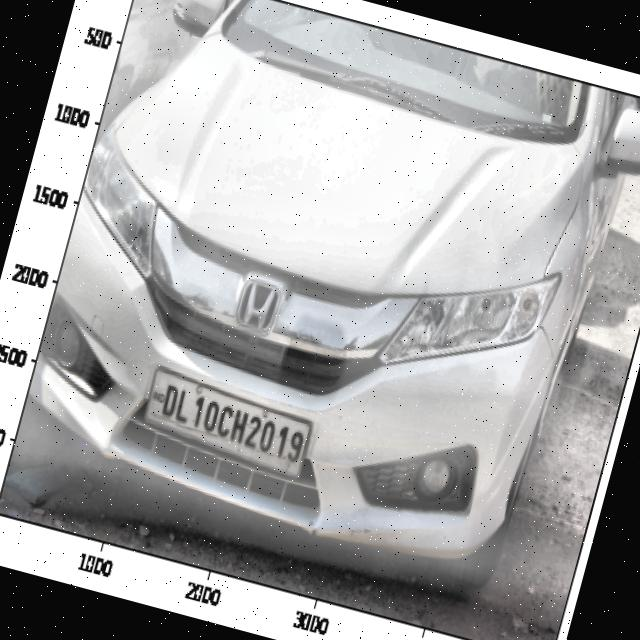license_plate: (146, 366, 316, 486)
